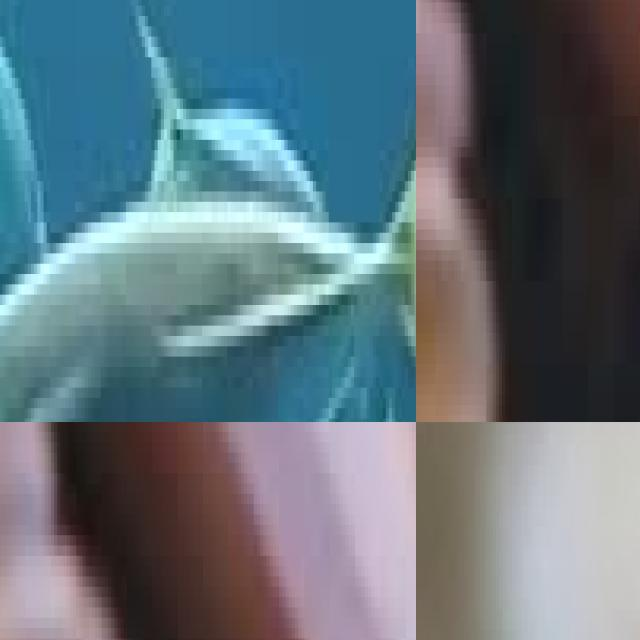fish: (0, 0, 416, 422), (416, 0, 640, 422), (0, 422, 416, 640)
